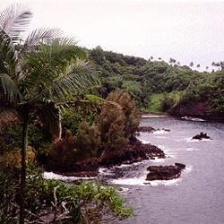neutral: (3, 2, 223, 224)
